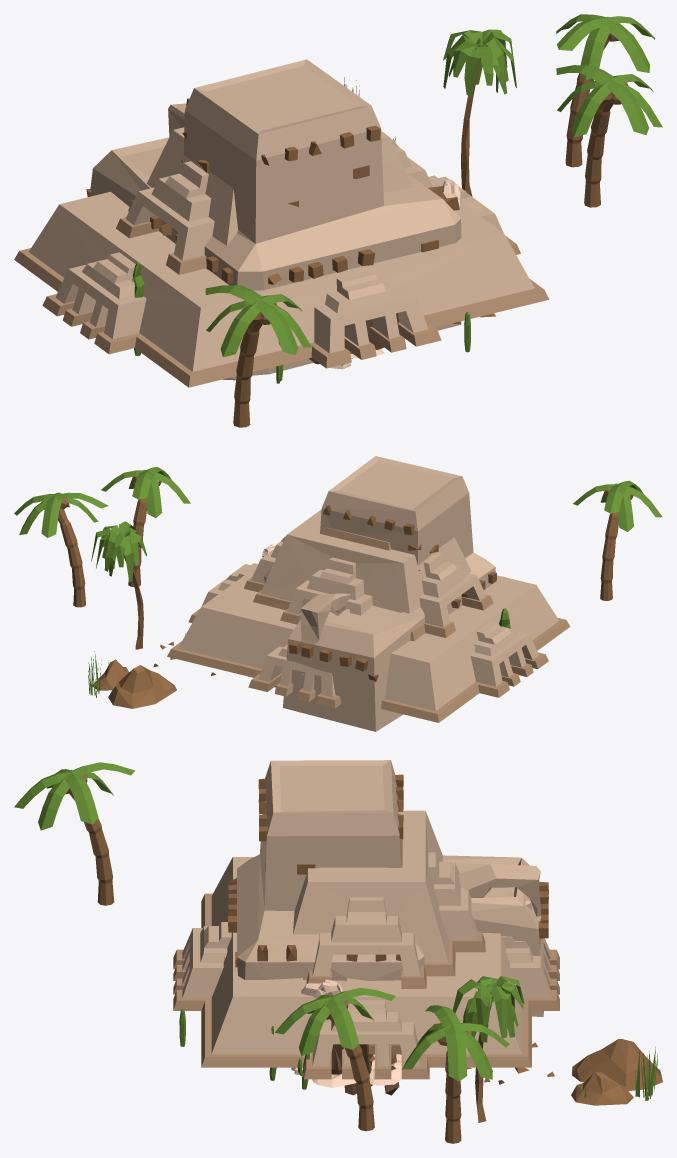
File: Props-03.fbx
3 renders of one model, top to bottom at view 1: azimuth 30°, elevation 25°; view 2: azimuth 150°, elevation 25°; view 3: azimuth 270°, elevation 25°, orthographic. The views are drawn at different scales.
Visible parts, largest first — view 1: Pyramid-01, House-01, Fossil-01; view 2: Pyramid-01, House-01, Wall-01; view 3: Pyramid-01, House-01, Fossil-01, Wall-01.
Boxes of the visible parts, bbox=[...] form: Pyramid-01: bbox=[14, 14, 662, 427]; House-01: bbox=[86, 29, 516, 375]; Fossil-01: bbox=[131, 179, 470, 383]; Pyramid-01: bbox=[14, 467, 662, 722]; House-01: bbox=[88, 456, 496, 731]; Wall-01: bbox=[299, 593, 350, 684]; Pyramid-01: bbox=[14, 762, 559, 1143]; House-01: bbox=[228, 760, 662, 1122]; Fossil-01: bbox=[179, 955, 401, 1095]; Wall-01: bbox=[458, 864, 541, 923].
Size of what is drawn, in the model's own units: 72.78 by 26.79 by 66.86.
